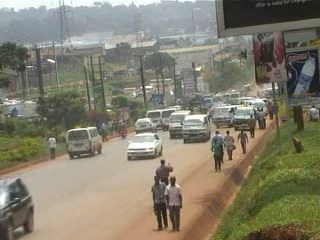Car: (0, 174, 41, 240), (122, 130, 165, 162), (130, 116, 159, 135)
Motorcycle: (115, 118, 128, 138)
